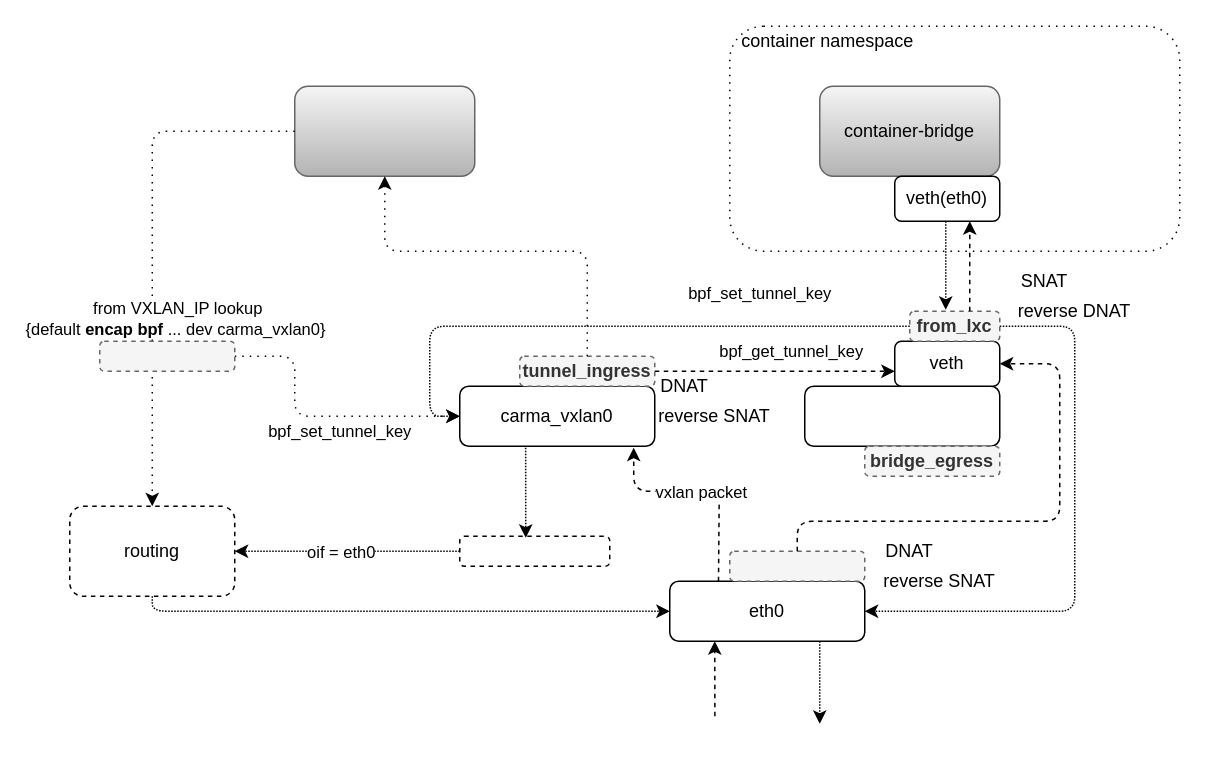
Some shapes in this 1208 by 762 pixel diagram are drawn without their labels. The centre of each missing label's shape, as x and y in pixels:
carma_br0: point (901, 415)
container-host: point (384, 130)
ingress: point (796, 565)
lwt_egress: point (166, 355)
vxlan_xmit_one: point (534, 550)
